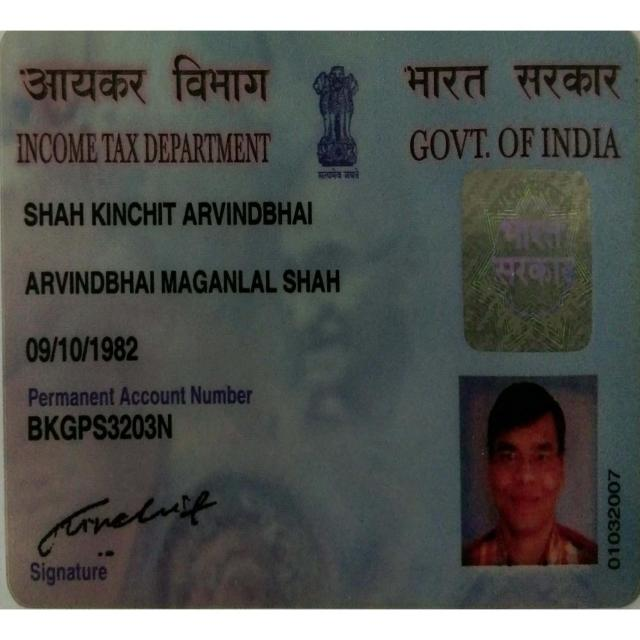pan_card: (0, 30, 640, 604)
